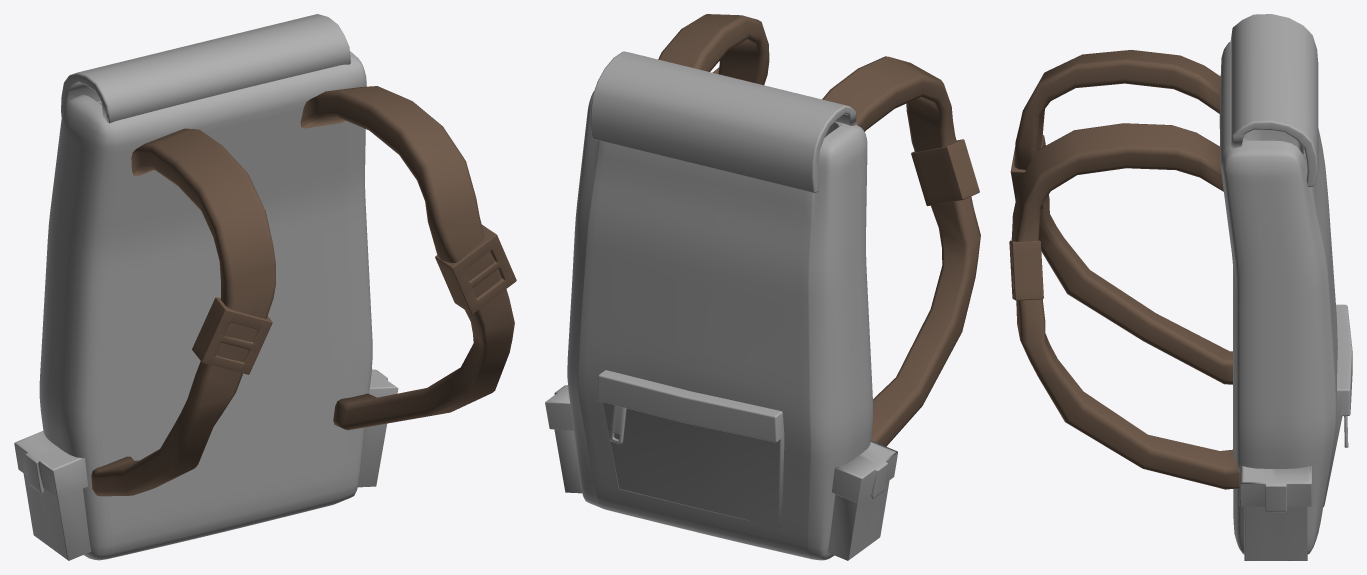
File: BackPack.fbx
3 renders of one model, left to right at view 1: azimuth 30°, elevation 25°; view 2: azimuth 150°, elevation 25°; view 3: azimuth 270°, elevation 25°, orthographic. The views are drawn at different scales.
Parts seen in each view (by area): view 1: BackPack; view 2: BackPack; view 3: BackPack.
Boxes of the visible parts, x1,y1,x2,y2 form: BackPack: [14, 14, 516, 560]; BackPack: [545, 14, 980, 560]; BackPack: [1009, 14, 1352, 560].
Size of the model in its own units: 1.88 by 2.44 by 1.74.
